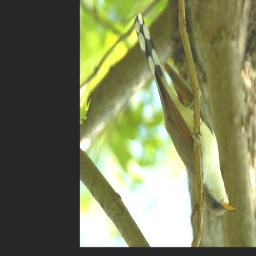Cuckoo: (135, 15, 236, 216)
